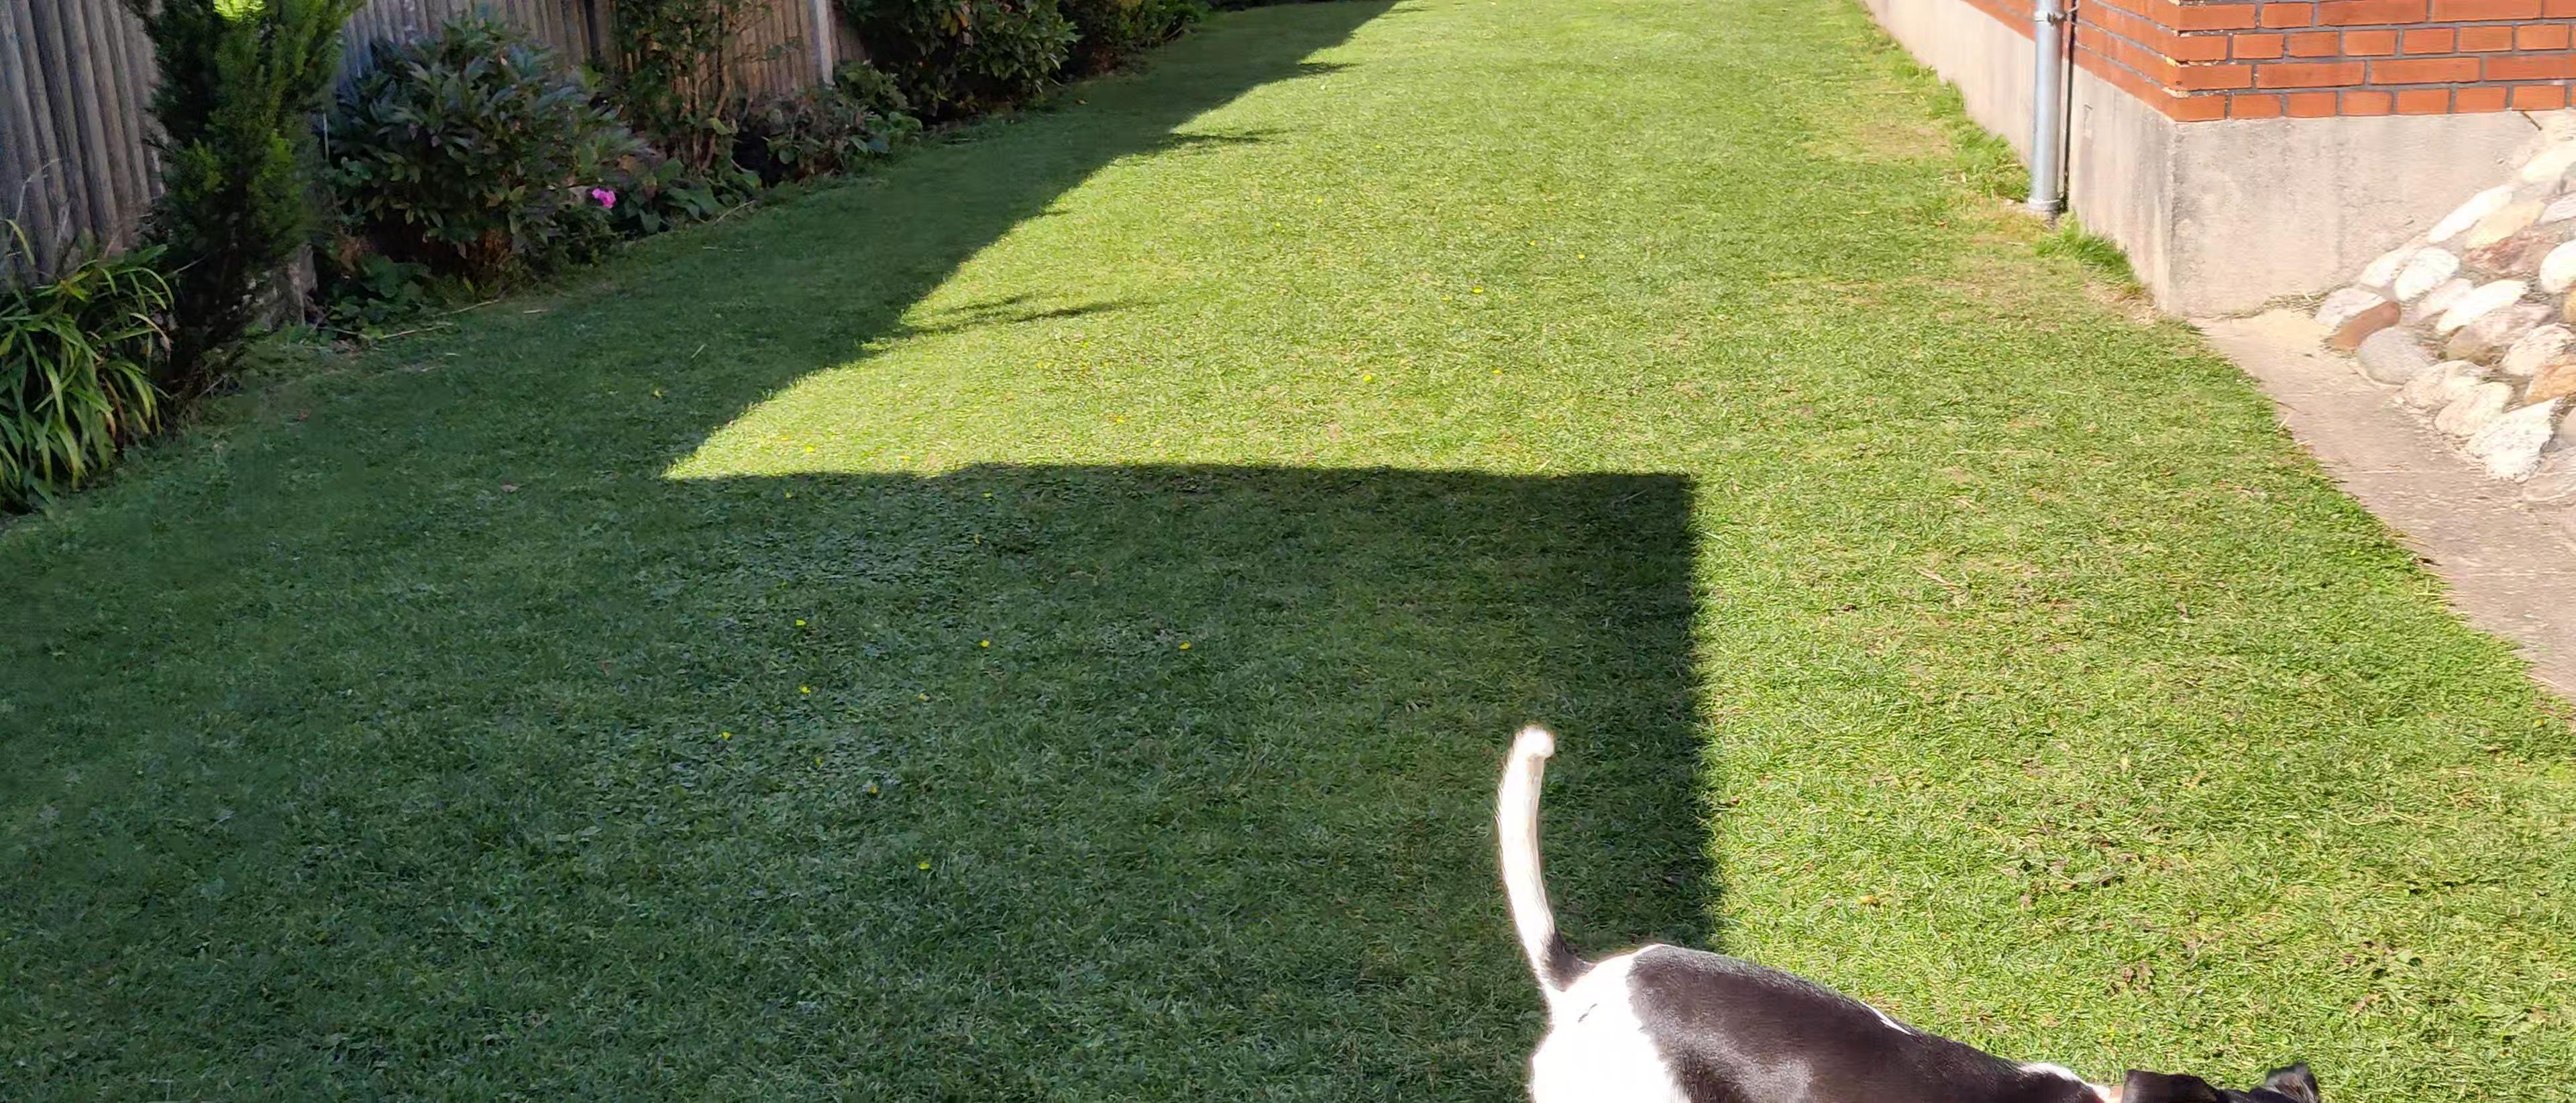Dog: (1460, 712, 2343, 1103)
